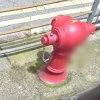a fire hydrant: (34, 15, 97, 90), (37, 37, 75, 87)
